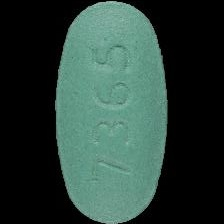61786-755: (0, 0, 224, 224)
